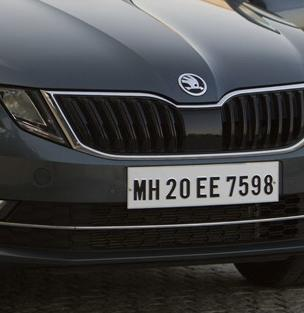License-Plate: (124, 169, 284, 209)
